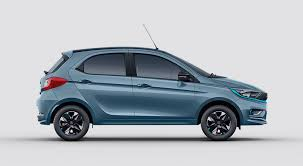Tiago: (35, 44, 268, 142)
